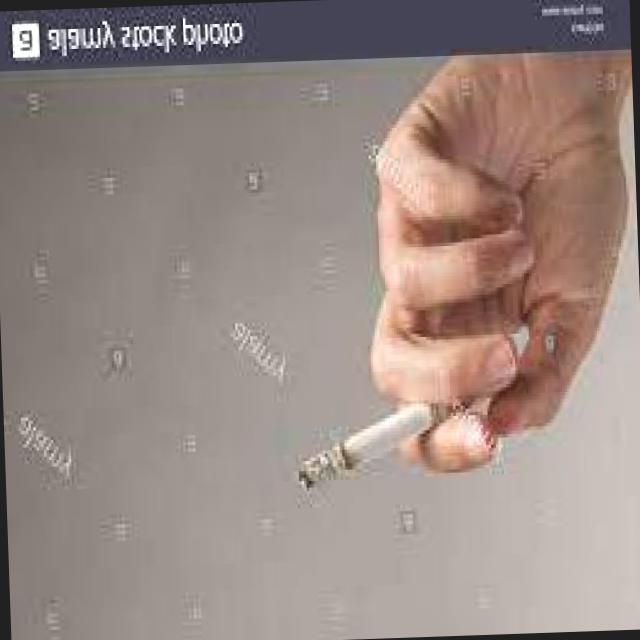cigarette: (291, 388, 478, 504)
